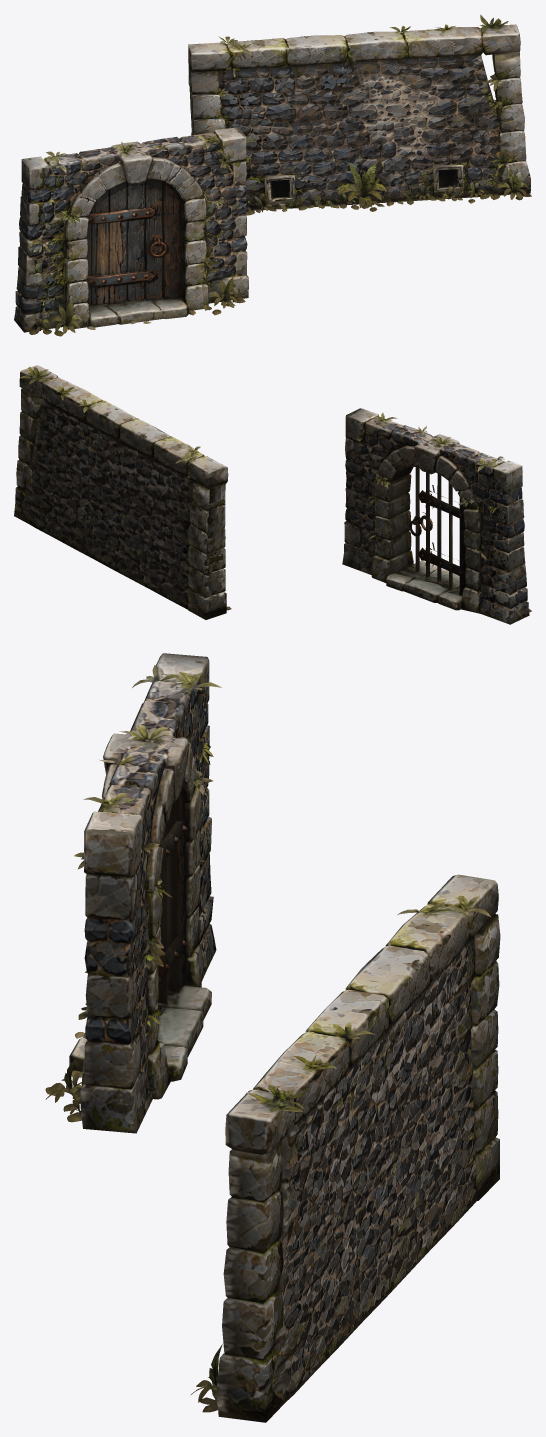
The model's file is act1_kit_v1_R25_barrow_door_flint_wall.glb.
3 views of the same model, one above another, from view 1: azimuth 30°, elevation 25°; view 2: azimuth 150°, elevation 25°; view 3: azimuth 270°, elevation 25° (orthographic). The views are drawn at different scales.
Visible parts, largest first — view 1: tripo_4d6f995a_4d28_419e_b3a3_12fe0002f178; view 2: tripo_4d6f995a_4d28_419e_b3a3_12fe0002f178; view 3: tripo_4d6f995a_4d28_419e_b3a3_12fe0002f178.
Part boxes in pixels (x1,y1,x2,y2): tripo_4d6f995a_4d28_419e_b3a3_12fe0002f178: (14, 14, 531, 336); tripo_4d6f995a_4d28_419e_b3a3_12fe0002f178: (14, 365, 531, 624); tripo_4d6f995a_4d28_419e_b3a3_12fe0002f178: (45, 653, 500, 1422).
Size of the model in its own units: 0.9995 by 0.3032 by 0.4028.
1 material, 1 textured.
